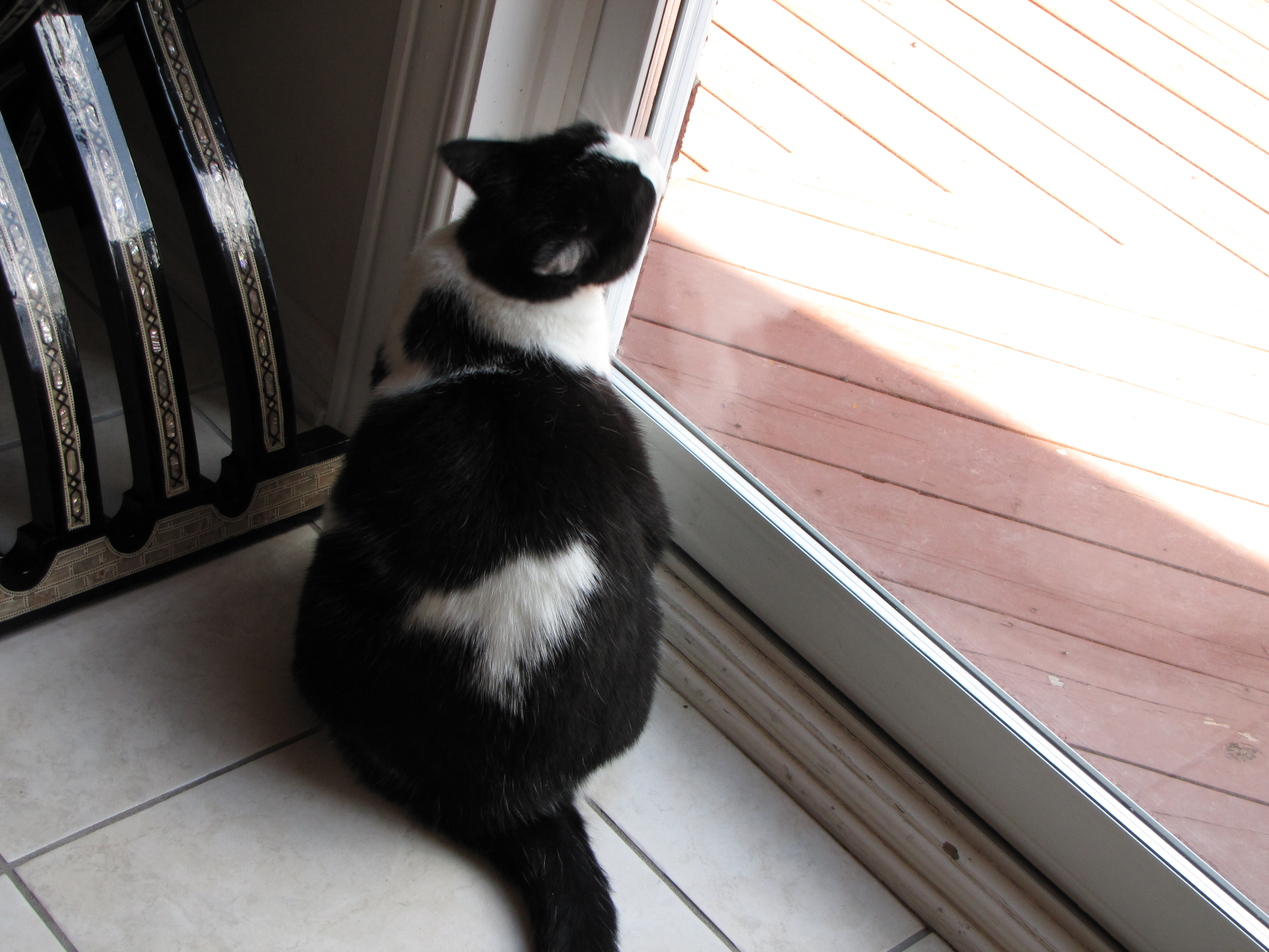cat: (289, 85, 670, 951)
